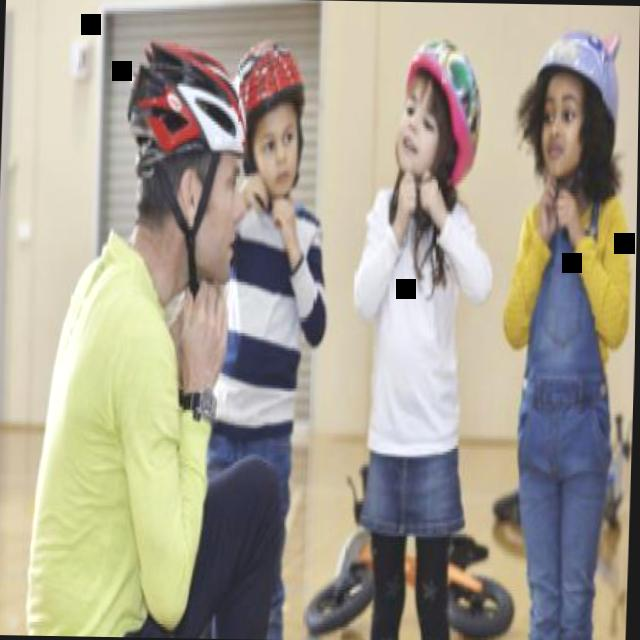NO-Mask: (177, 156, 250, 288), (535, 85, 595, 179), (393, 87, 449, 178), (254, 110, 304, 196)
